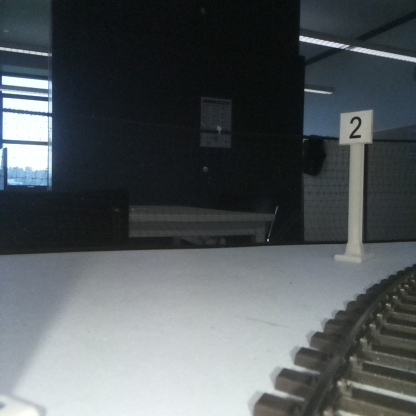white-info-2: (340, 110, 372, 261)
